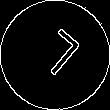L_SW: (27, 26, 83, 84)
